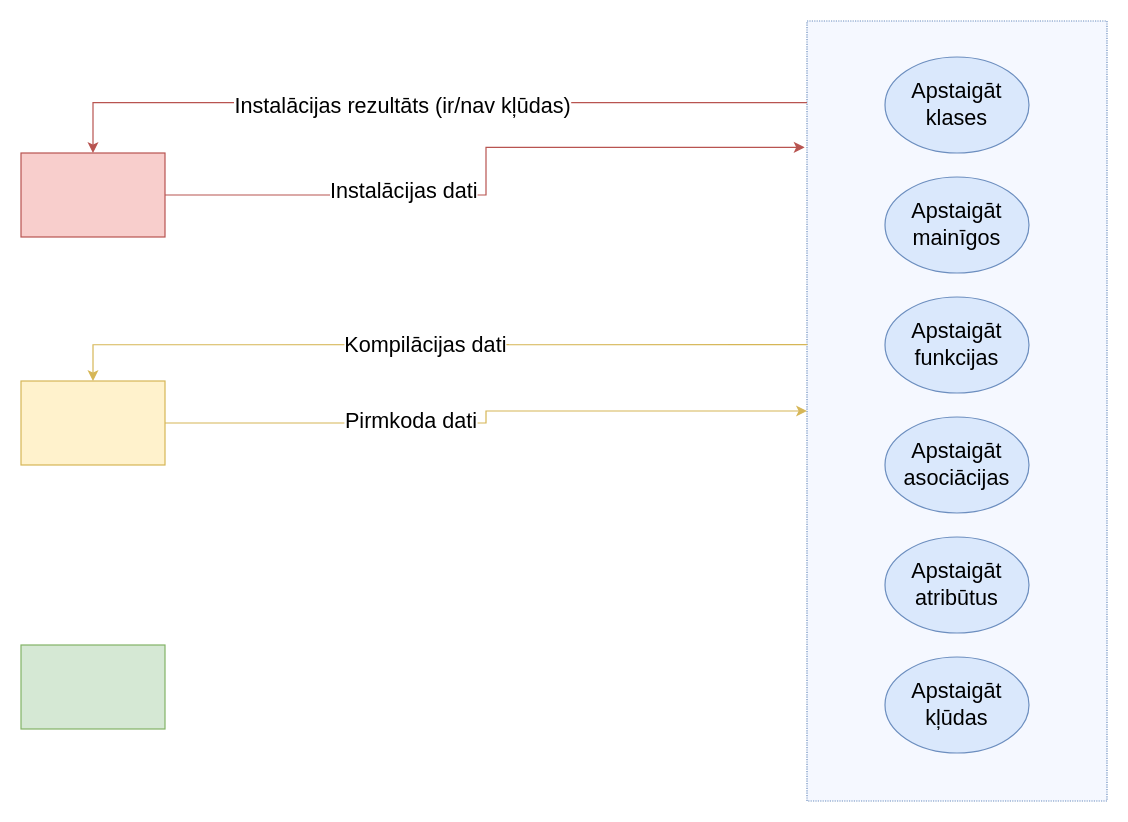
Some shapes in this 1128 by 822 pixel diagram are drawn without their labels. Each missing label, with the centre of its shape:
"Administratori" belongs at [92,194].
"Gala lietotāji" belongs at [92,686].
"Izstrādātāji" belongs at [92,422].
